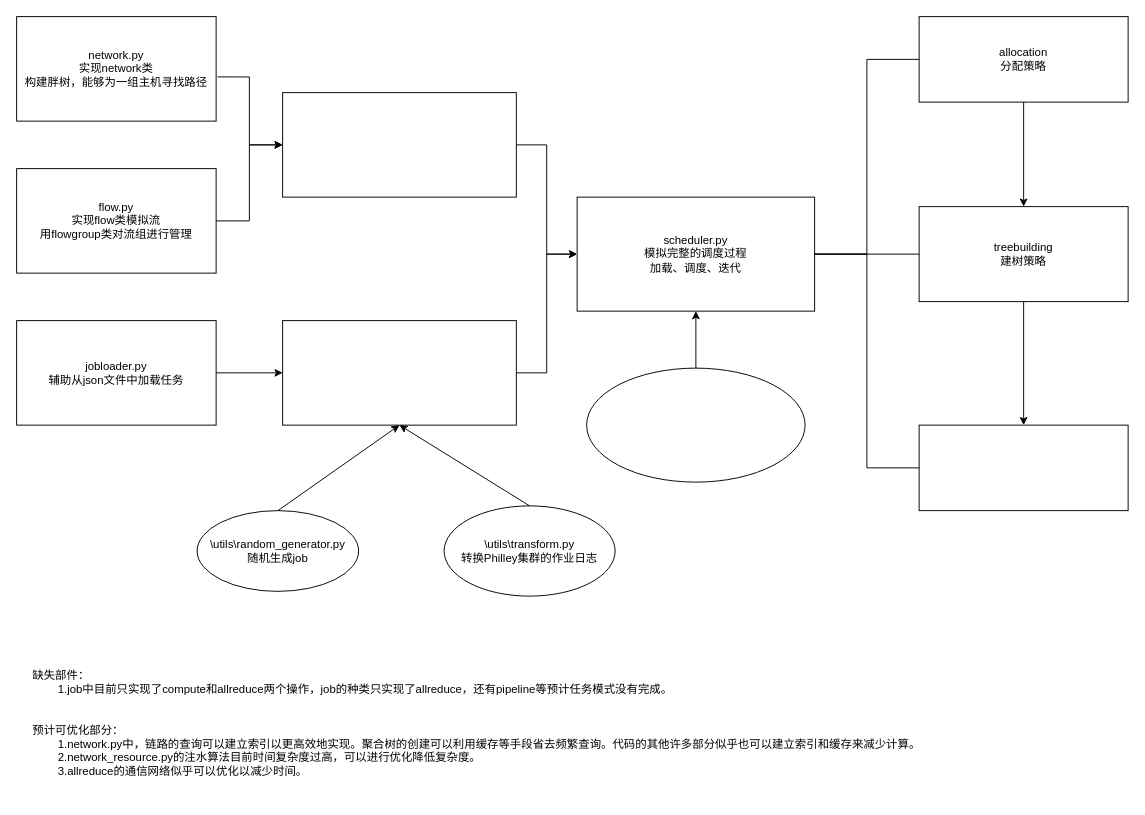
This 1145x815 diagram has some shape labels left out. Each missing label, with the centre of its shape:
"\utils\logger.py 辅助scheduler输出过程" belongs at pixel 695 424.
"job.py 实现任务job类和操作operation类 模拟任务在每个时间步内的行为" belongs at pixel 399 372.
"network_resource.py 管理网络资源，包括链路和流 实现注水算法为全部流设置流速" belongs at pixel 399 144.
"sharing 共享策略" belongs at pixel 1023 467.
